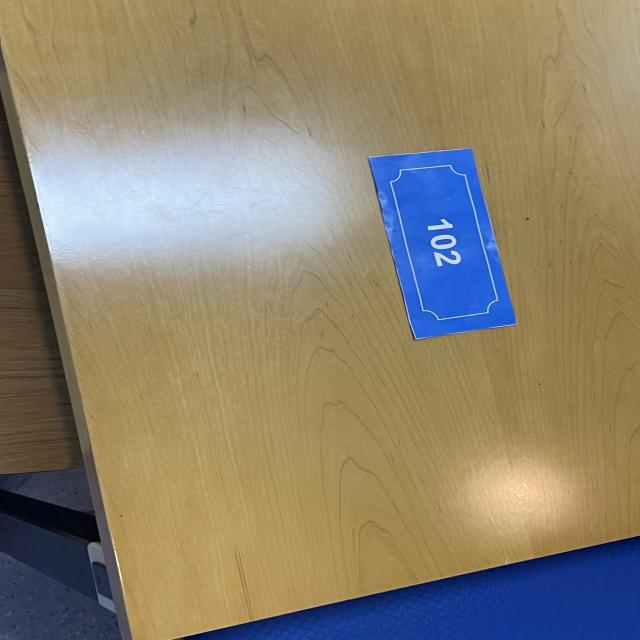Card: (358, 115, 539, 378)
